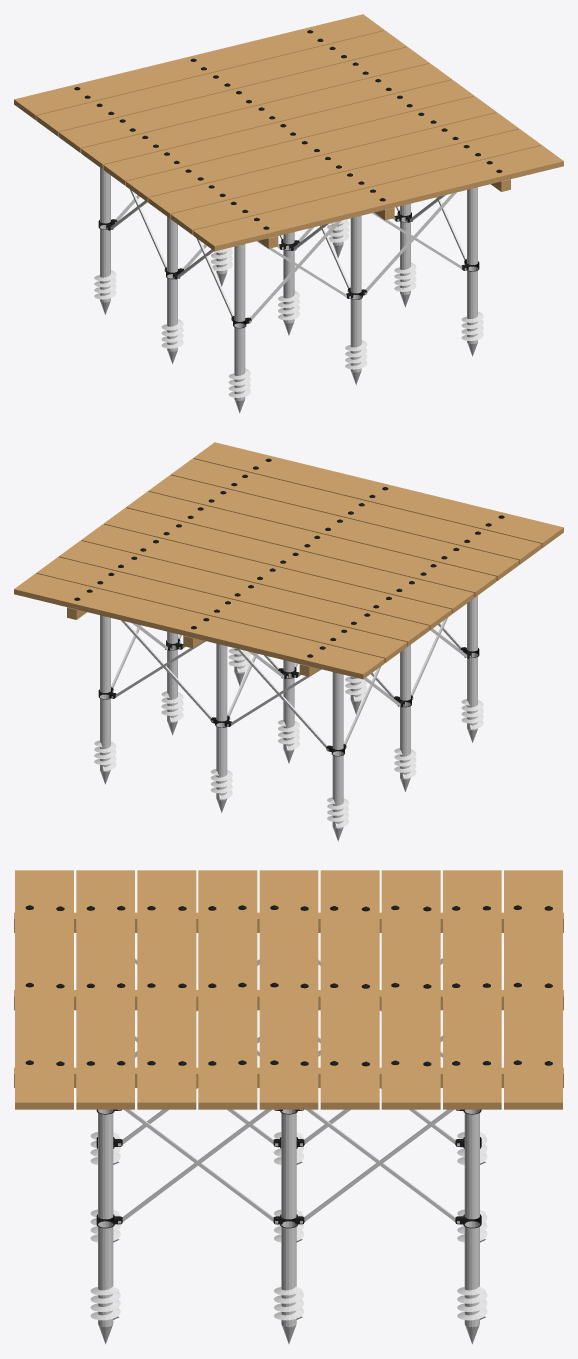
File: lamatwo.fbx
3 views of the same model, one above another, from view 1: azimuth 30°, elevation 25°; view 2: azimuth 150°, elevation 25°; view 3: azimuth 270°, elevation 25° (orthographic). The views are drawn at different scales.
Visible parts, largest first — view 1: floorboards, screw pile, crossbar, screws.002, floorstruts; view 2: floorboards, screw pile, crossbar, screws.002, floorstruts; view 3: floorboards, screw pile, crossbar, screws.002, floorstruts.
Boxes of the visible parts, box(x1,y1,x2,y2) form: floorboards: box(14, 14, 563, 251); screw pile: box(94, 167, 483, 413); crossbar: box(106, 189, 469, 323); screws.002: box(74, 30, 502, 229); floorstruts: box(258, 179, 510, 248); floorboards: box(14, 442, 563, 679); screw pile: box(94, 595, 483, 841); crossbar: box(106, 617, 471, 751); screws.002: box(74, 458, 504, 657); floorstruts: box(67, 607, 319, 676); floorboards: box(15, 870, 562, 1109); screw pile: box(90, 1109, 487, 1344); crossbar: box(102, 958, 471, 1224); screws.002: box(25, 905, 552, 1066); floorstruts: box(14, 912, 563, 1087).
Size of the model in its own units: 3600 by 2043 by 3600.
